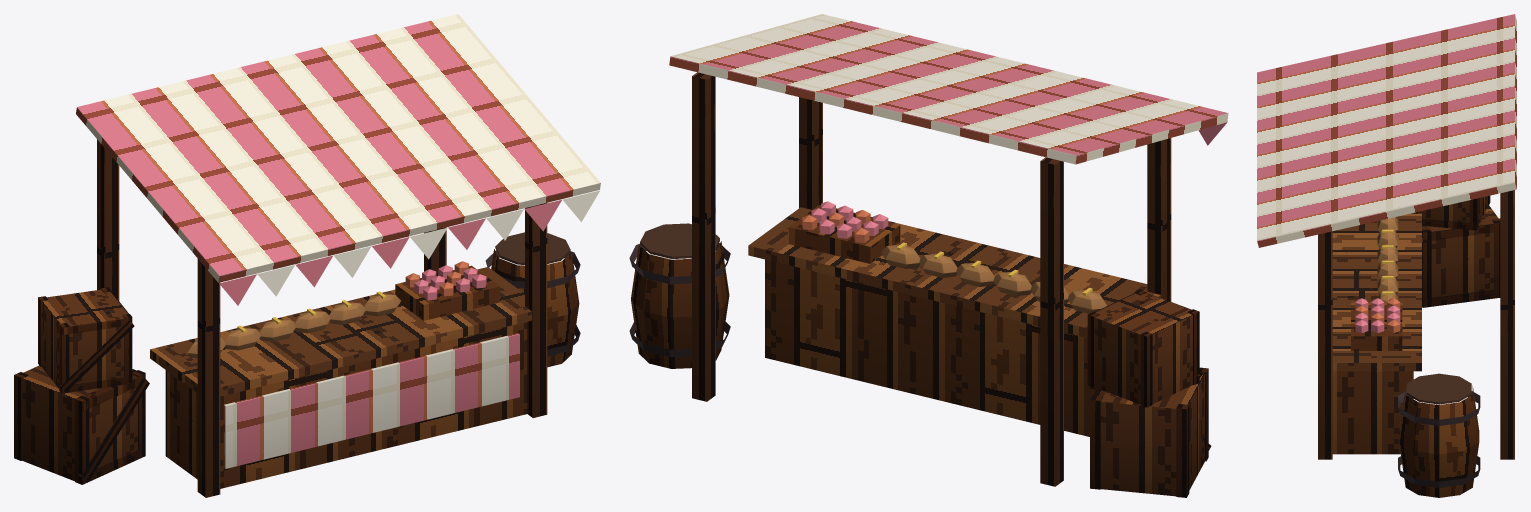
Rendered from market_stall.glb.
The picture shows the model from 3 angles, left to right: view 1: azimuth 30°, elevation 25°; view 2: azimuth 150°, elevation 25°; view 3: azimuth 270°, elevation 25°; orthographic projection. The views are drawn at different scales.
Visible parts, largest first — view 1: market_stall; view 2: market_stall; view 3: market_stall.
Part boxes in pixels (<box>): market_stall: <box>14,14,600,497</box>; market_stall: <box>629,14,1228,497</box>; market_stall: <box>1257,14,1516,497</box>.
Size of the model in its own units: 4.94 by 2.77 by 2.28.
3 materials, 2 textured.
